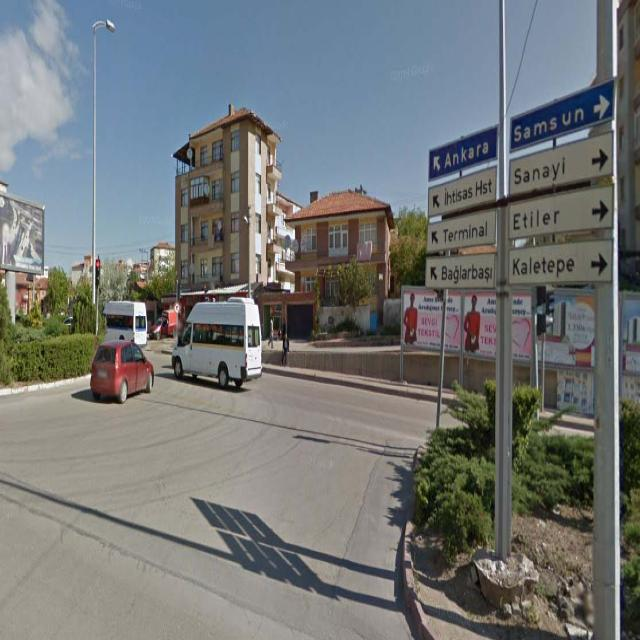kirmizi: (96, 260, 100, 286)
